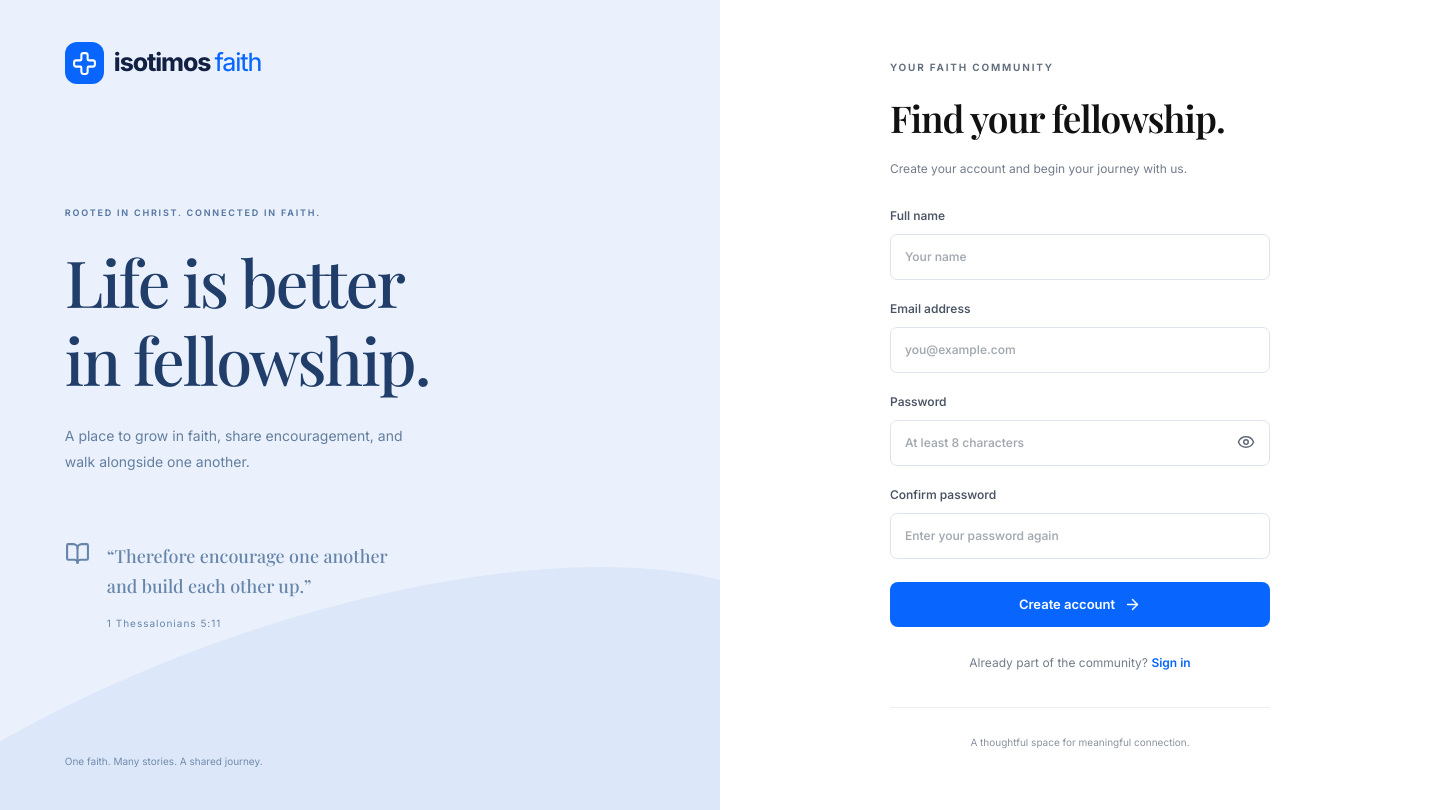
it: real auth UI and provider with mocked Supabase transport › does not submit mismatched registration passwords
Type "Grace" into the field labelled "Full name".
click(1080, 257); type("Grace")  # box [890,234,1270,280]
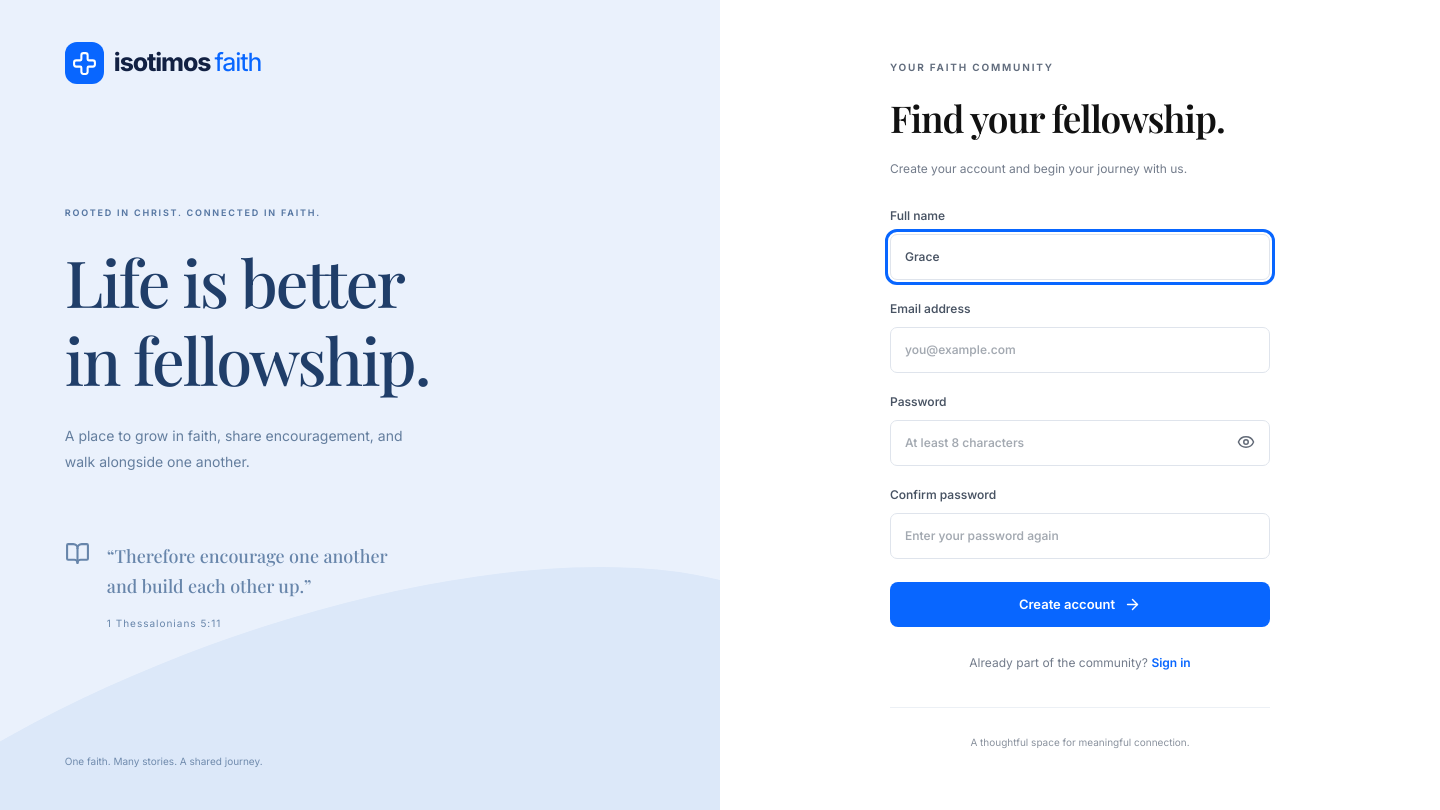
Type "grace@example.com" into the field labelled "Email address".
click(1080, 350); type("grace@example.com")  # box [890,327,1270,373]
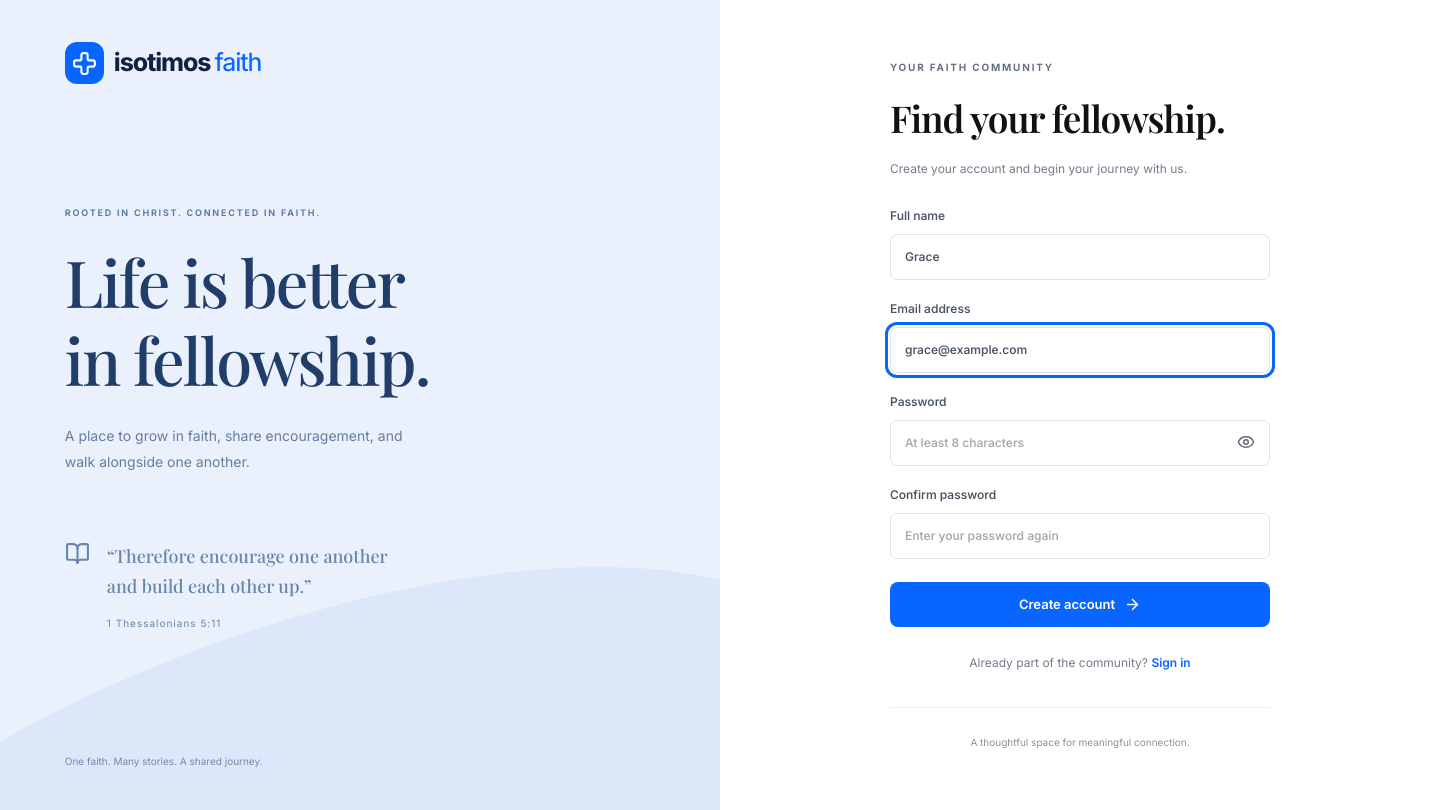
Type "strong-password-123" into the password field labelled "Password".
click(1080, 443); type("strong-password-123")  # box [890,420,1270,466]
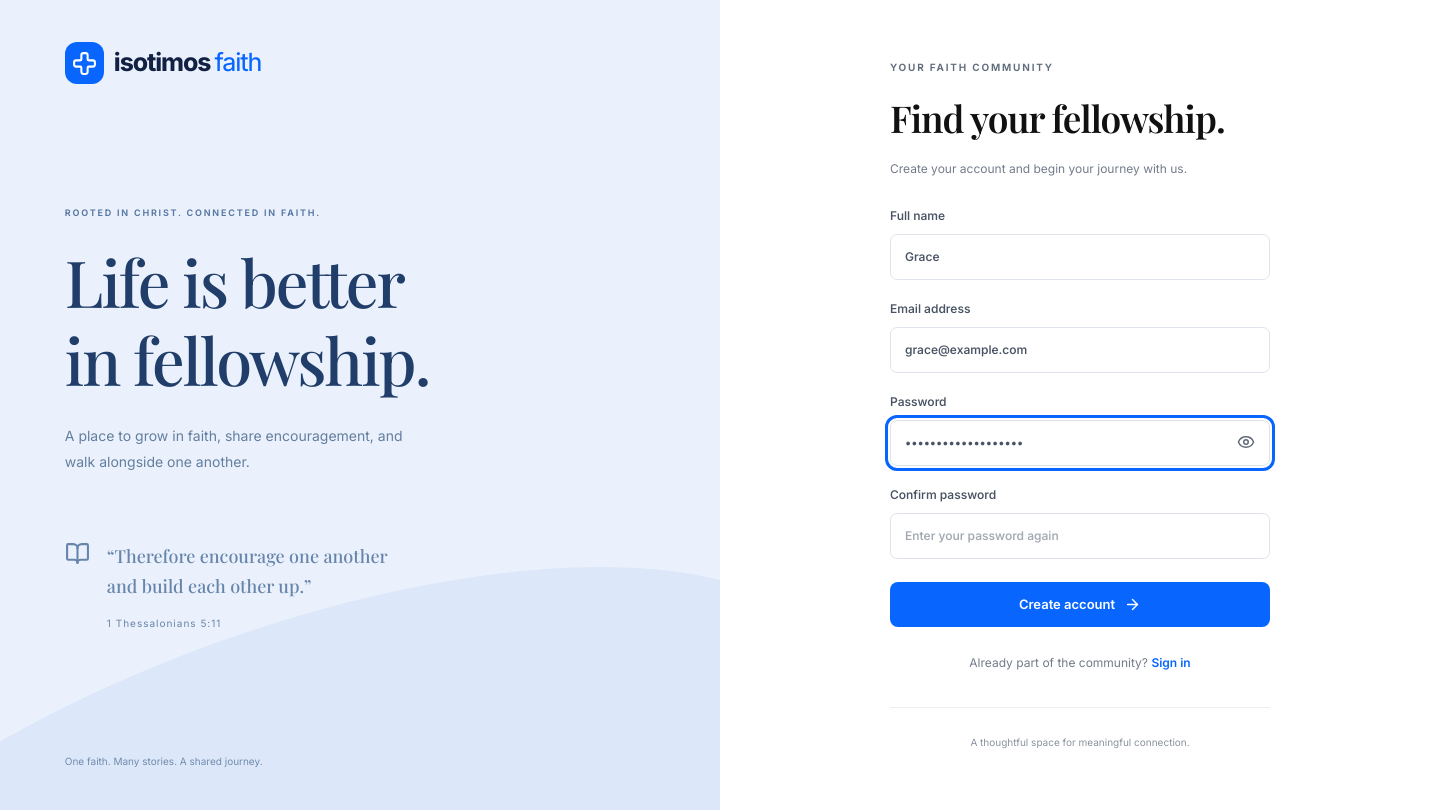
Type "different-password" into the password field labelled "Confirm password".
click(1080, 536); type("different-password")  # box [890,513,1270,559]
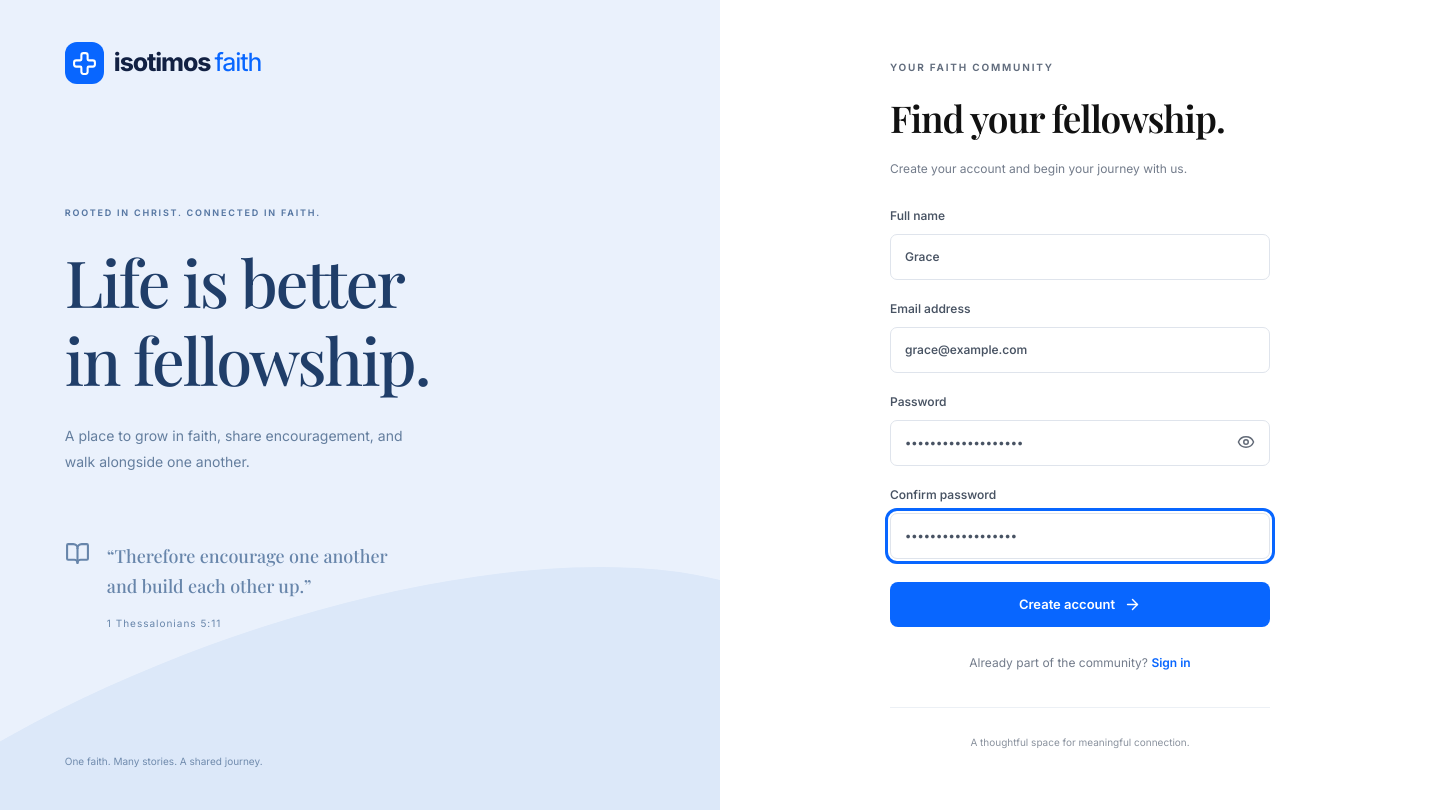
Click the button "Create account".
click(1080, 605)  # box [890,582,1270,627]
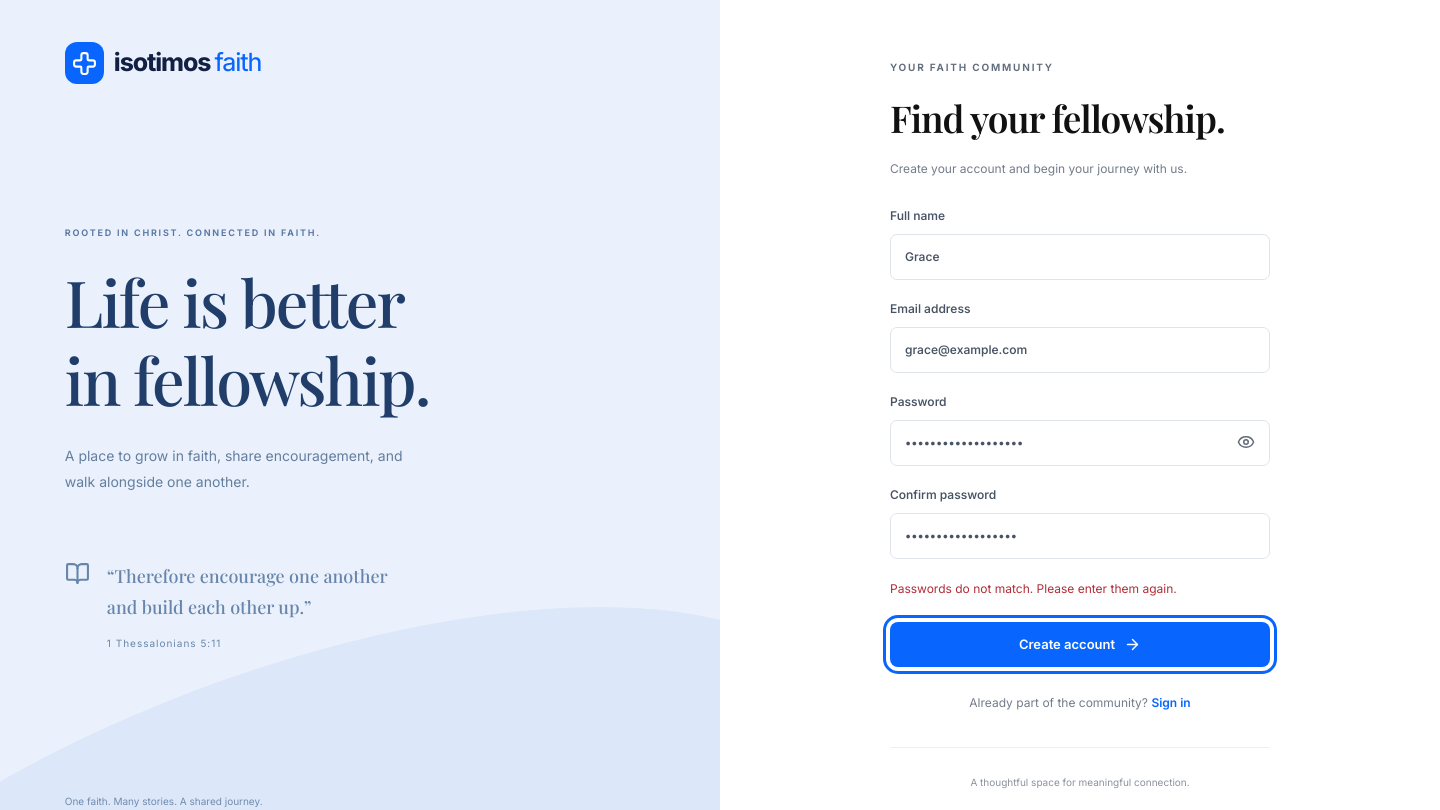
Now the message shows "Passwords do not match", box [890,581,1177,596]
